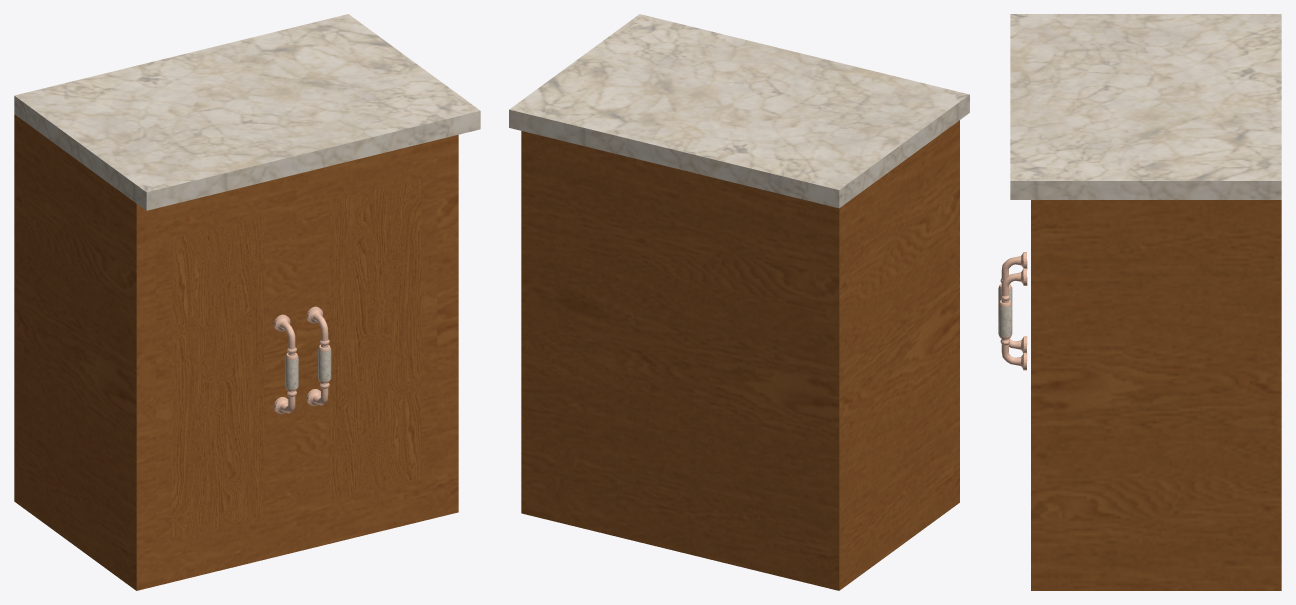
Rendered from Cabinet_End_L.fbx.
3 views of the same model, side by side, from view 1: azimuth 30°, elevation 25°; view 2: azimuth 150°, elevation 25°; view 3: azimuth 270°, elevation 25° (orthographic). The views are drawn at different scales.
Parts seen in each view (by area): view 1: pCube196, Cover_edge1, pCube198, pCube197, pCylinder111, pCylinder112; view 2: pCube196, Cover_edge1; view 3: pCube196, Cover_edge1, pCylinder111, pCylinder112.
Part boxes in pixels (bbox=[...]): pCube196: bbox=[14, 114, 458, 590]; Cover_edge1: bbox=[14, 14, 480, 210]; pCube198: bbox=[296, 155, 437, 526]; pCube197: bbox=[156, 190, 296, 560]; pCylinder111: bbox=[306, 306, 331, 406]; pCylinder112: bbox=[274, 314, 298, 414]; pCube196: bbox=[521, 120, 959, 590]; Cover_edge1: bbox=[509, 14, 969, 208]; pCube196: bbox=[1031, 200, 1281, 590]; Cover_edge1: bbox=[1010, 14, 1281, 199]; pCylinder111: bbox=[998, 268, 1027, 370]; pCylinder112: bbox=[998, 252, 1027, 353].
Size of the model in its own units: 0.8636 by 1 by 0.618.
